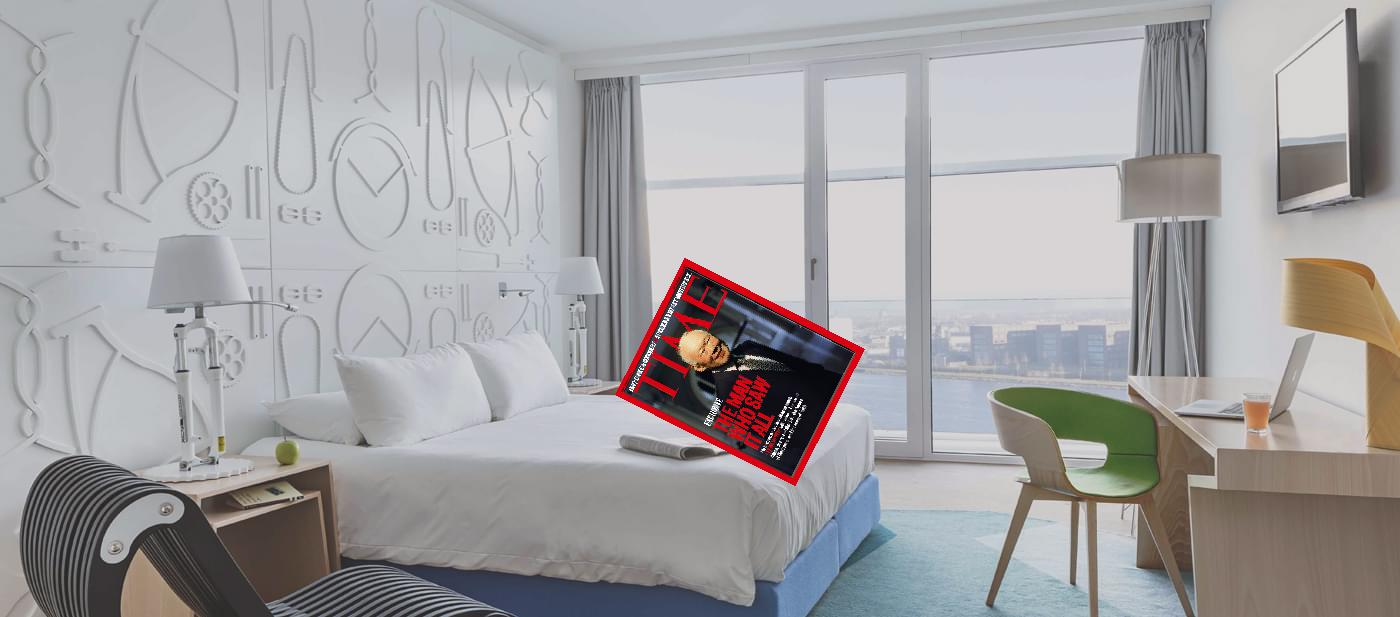times: (608, 252, 869, 487)
